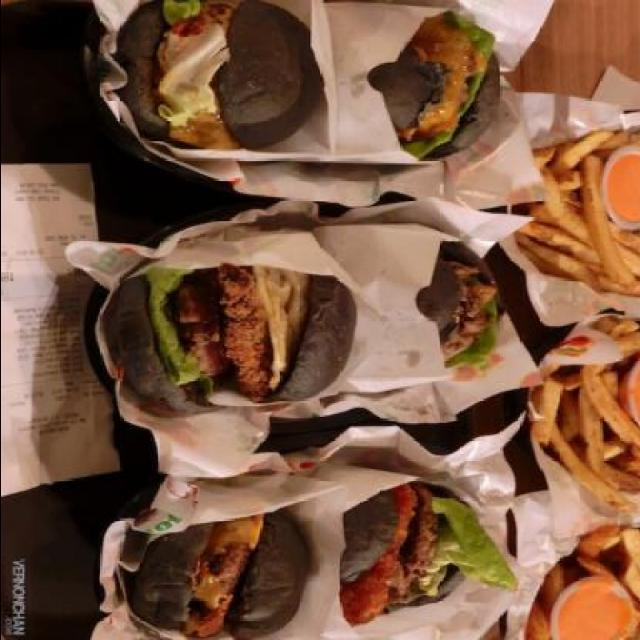Hamburger: (108, 267, 357, 411), (106, 0, 320, 151), (342, 481, 520, 624), (125, 508, 307, 640), (366, 12, 502, 162), (415, 240, 503, 369)
